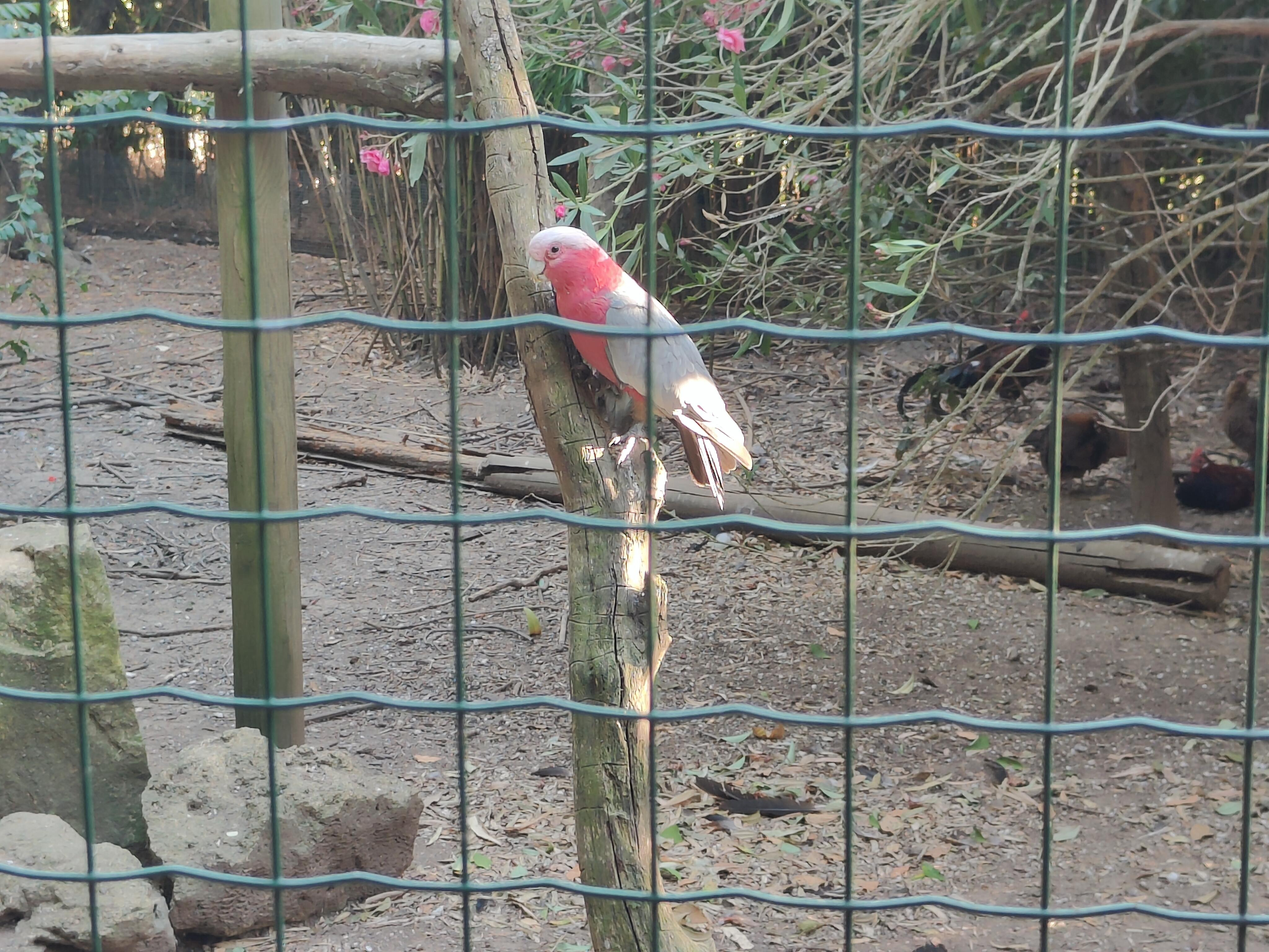apple: (528, 226, 753, 511)
